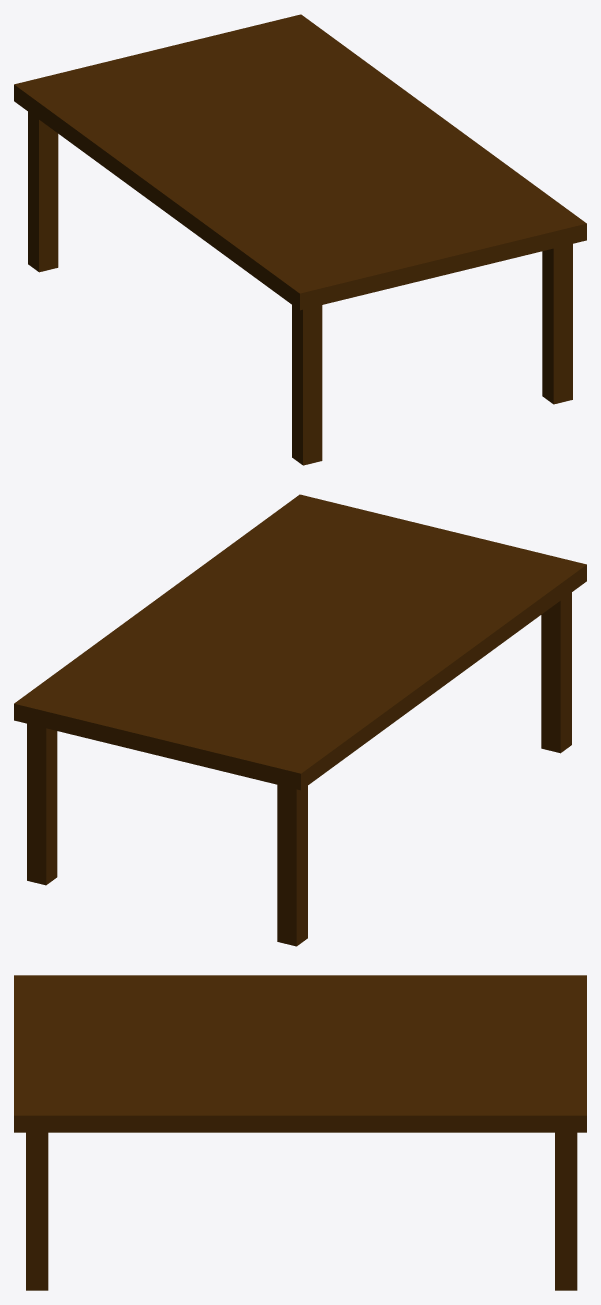
Rendered from tables.fbx.
3 views of the same model, one above another, from view 1: azimuth 30°, elevation 25°; view 2: azimuth 150°, elevation 25°; view 3: azimuth 270°, elevation 25° (orthographic).
Parts seen in each view (by area): view 1: Cube.001; view 2: Cube.001; view 3: Cube.001.
Boxes of the visible parts, box(x1,y1,x2,y2) form: Cube.001: box(14, 14, 586, 465); Cube.001: box(14, 494, 586, 946); Cube.001: box(14, 975, 586, 1290).
Size of the model in its own units: 518 by 308 by 894.
